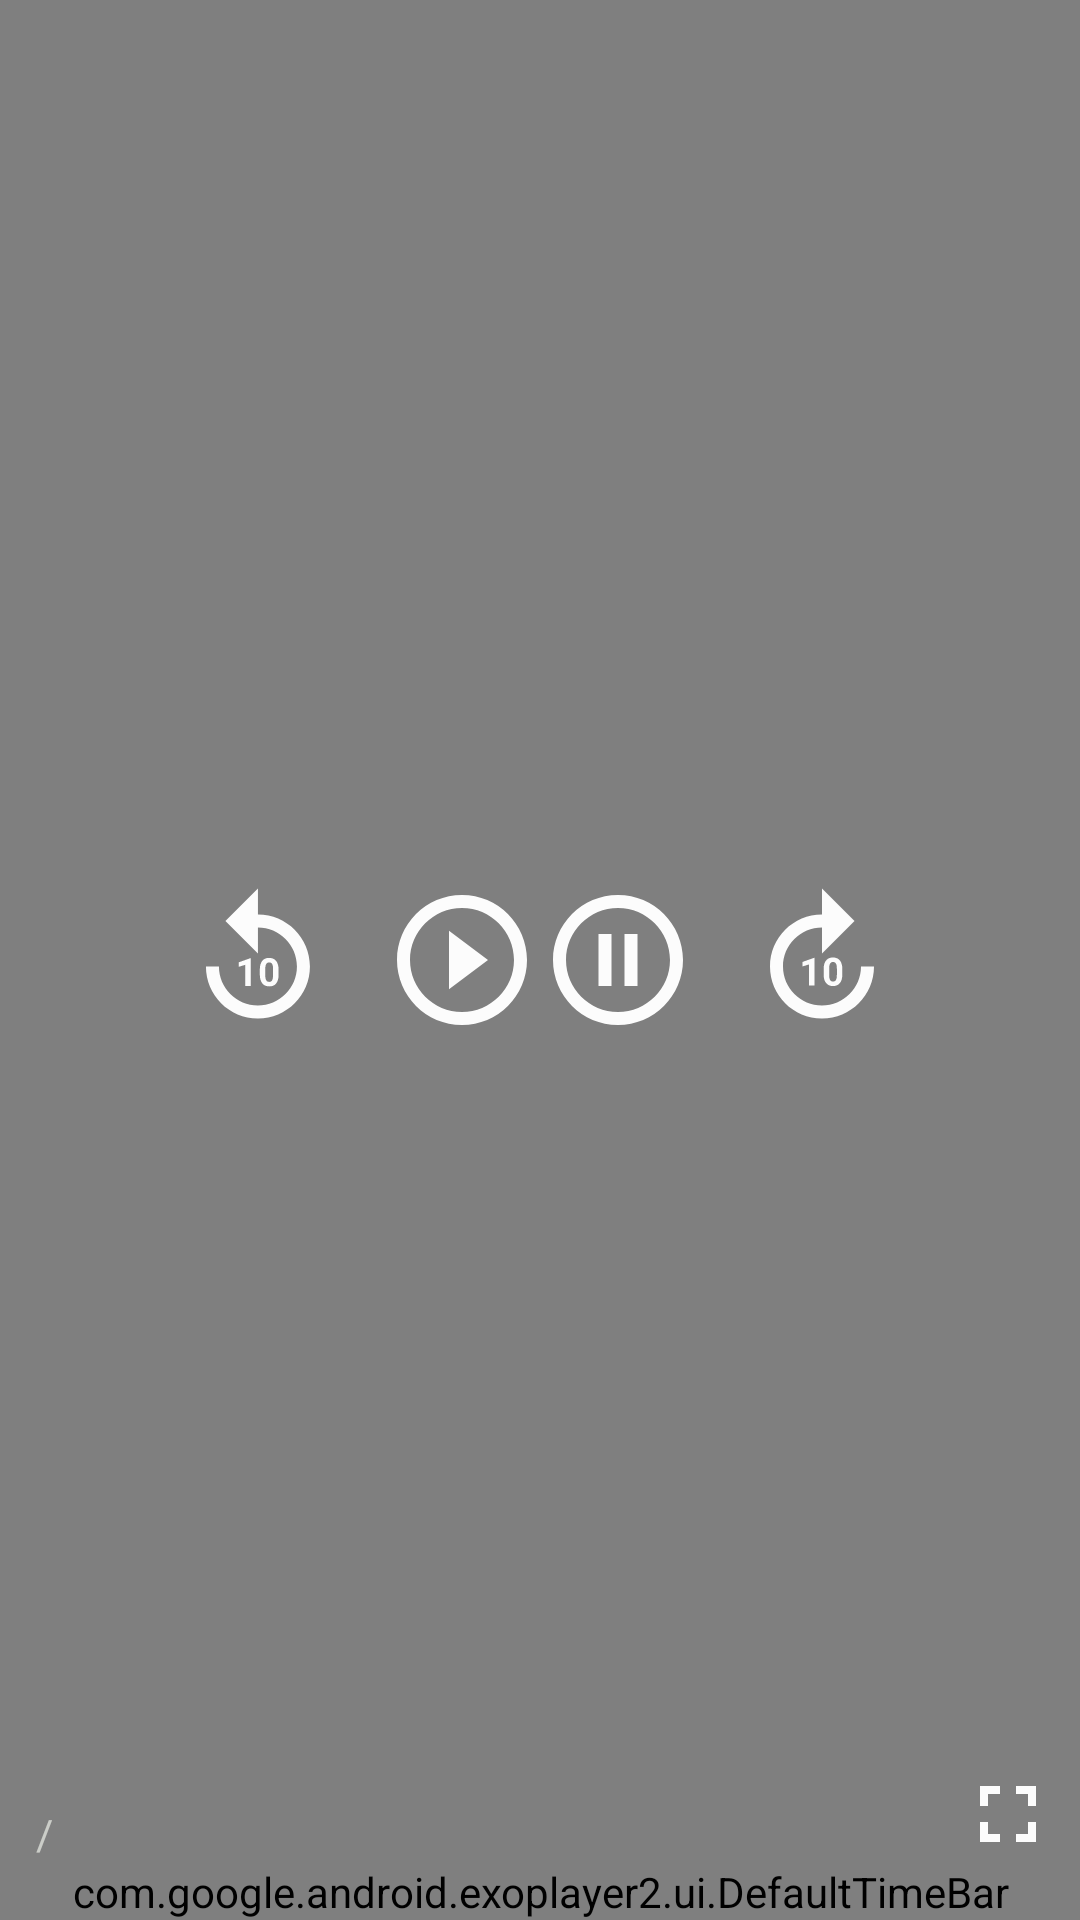

Named icons in this screenshot (1080px x 1920px) and their bounding boxes, BBox(x1, y1, x2, y2):
forward: BBox(770, 889, 874, 1019)
fullscreen: BBox(980, 1786, 1036, 1842)
pause circle: BBox(553, 895, 683, 1025)
play circle: BBox(397, 895, 527, 1025)
replay: BBox(206, 889, 310, 1019)
